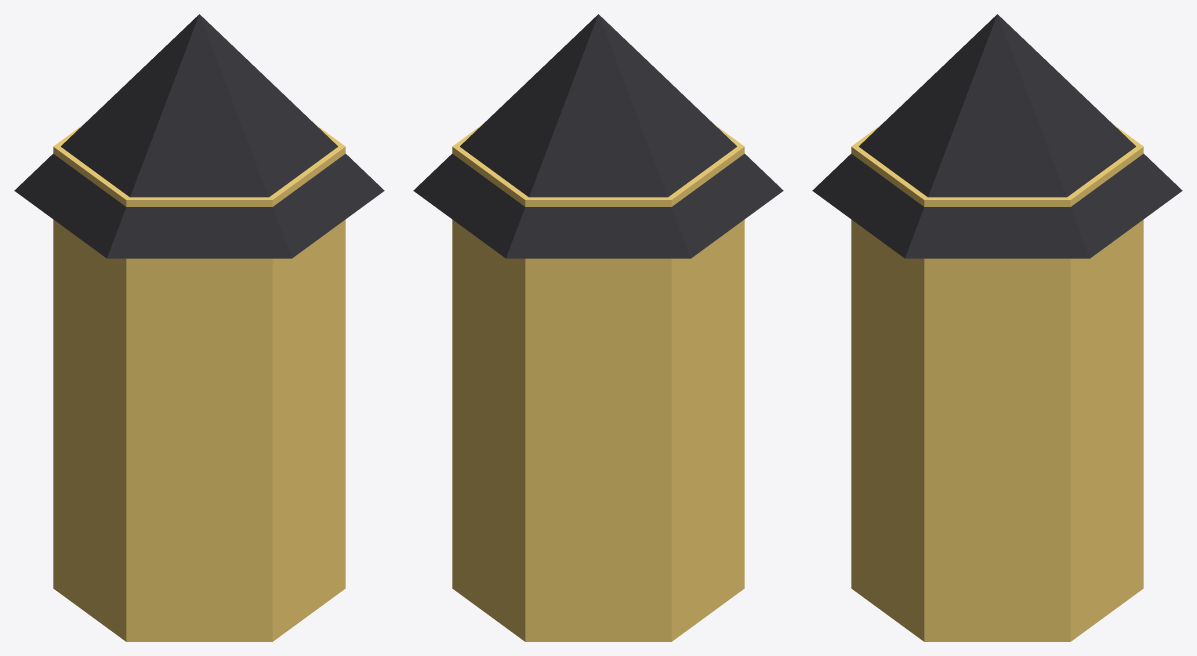
File: Lantern.fbx
The picture shows the model from 3 angles, left to right: view 1: azimuth 30°, elevation 25°; view 2: azimuth 150°, elevation 25°; view 3: azimuth 270°, elevation 25°; orthographic projection.
Parts seen in each view (by area): view 1: Lantern; view 2: Lantern; view 3: Lantern.
Boxes of the visible parts, box(x1,y1,x2,y2) form: Lantern: box(14, 14, 384, 641); Lantern: box(413, 14, 783, 641); Lantern: box(812, 14, 1182, 641).
Bounding box in the file's own units: 1.32 × 2.6 × 1.52.
1 material, 1 textured.
